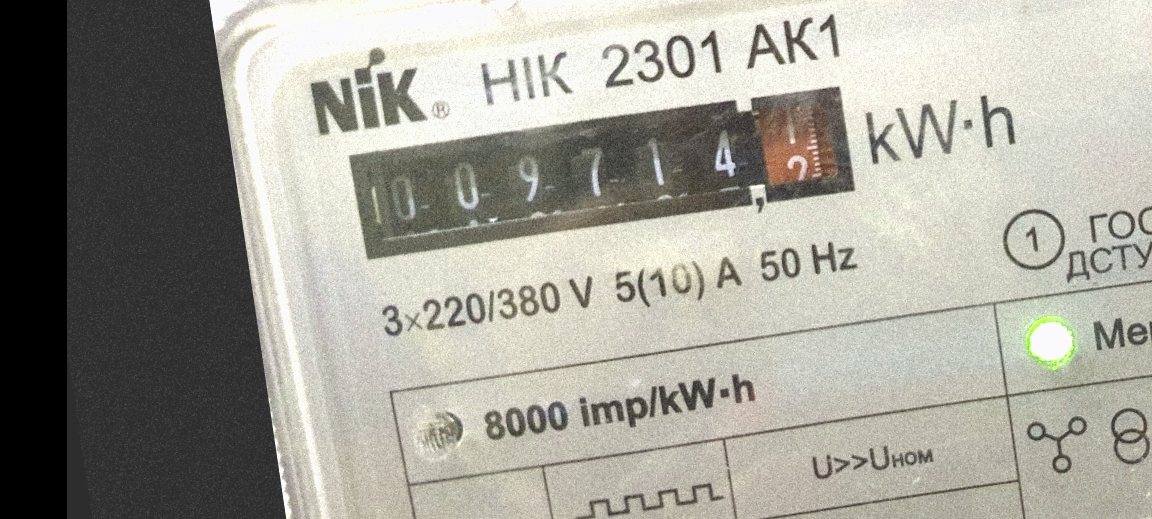0: (385, 169, 422, 226), (449, 156, 483, 213)
1: (641, 131, 672, 189), (779, 103, 800, 147)
2: (784, 150, 812, 183)
4: (706, 125, 742, 182)
7: (578, 143, 611, 200)
9: (511, 149, 546, 205)
screen: (332, 64, 875, 283)
